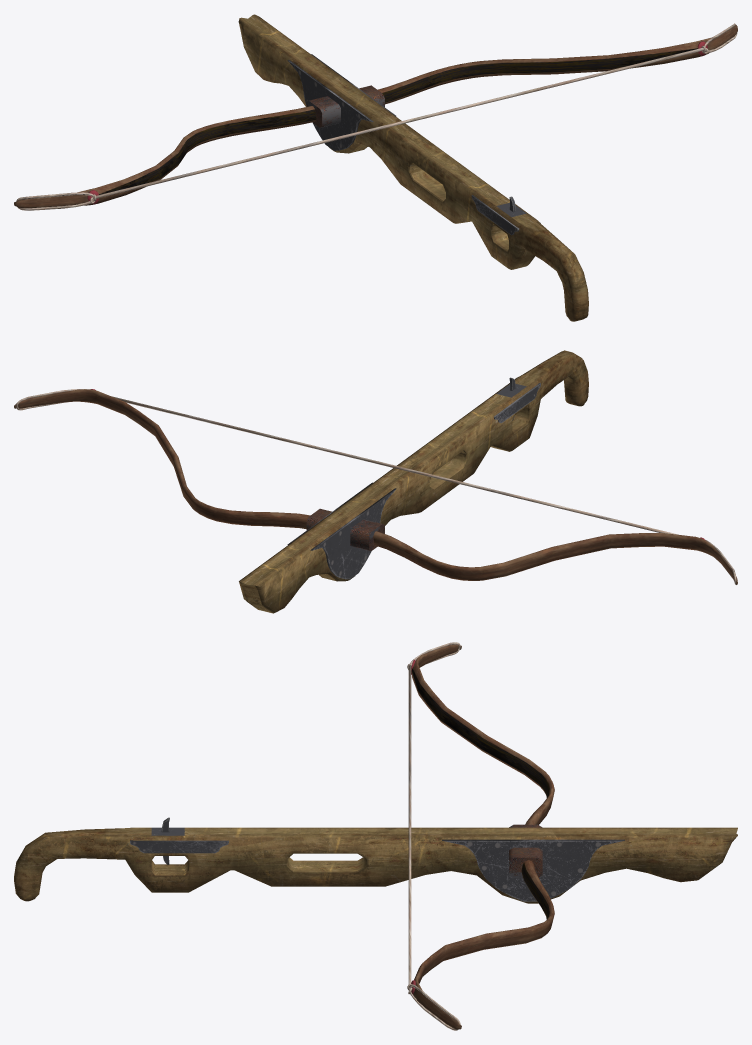
The model's file is SM_Crossbow01a.fbx.
3 renders of one model, top to bottom at view 1: azimuth 30°, elevation 25°; view 2: azimuth 150°, elevation 25°; view 3: azimuth 270°, elevation 25°, orthographic. The views are drawn at different scales.
Visible parts, largest first — view 1: SM_Crossbow01a; view 2: SM_Crossbow01a; view 3: SM_Crossbow01a.
Boxes of the visible parts, x1,y1,x2,y2 form: SM_Crossbow01a: (14,14,737,321); SM_Crossbow01a: (14,350,737,613); SM_Crossbow01a: (14,642,737,1030).
Size of the model in its own units: 120 by 96.55 by 11.96.
1 material, 1 textured.
